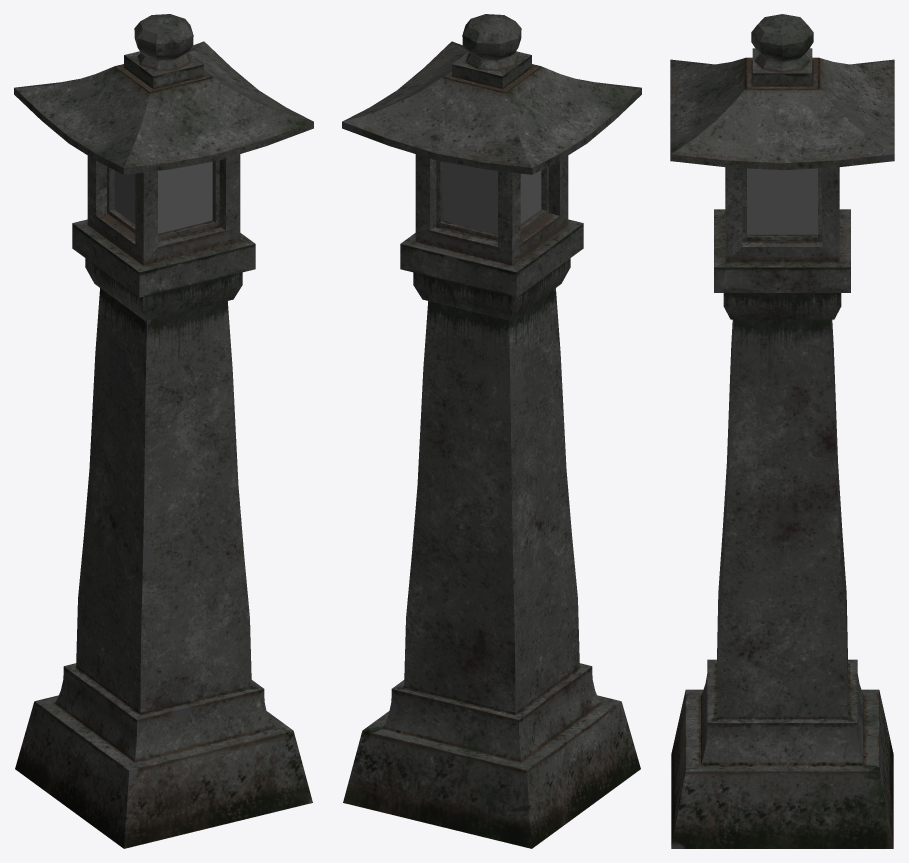
The model's file is Japanese-Lantern-off.fbx.
The picture shows the model from 3 angles, left to right: view 1: azimuth 30°, elevation 25°; view 2: azimuth 150°, elevation 25°; view 3: azimuth 270°, elevation 25°; orthographic projection. The views are drawn at different scales.
Parts seen in each view (by area): view 1: Cube.001; view 2: Cube.001; view 3: Cube.001.
Boxes of the visible parts, x1,y1,x2,y2 form: Cube.001: (14, 14, 313, 848); Cube.001: (342, 14, 641, 848); Cube.001: (670, 14, 894, 848).
Bounding box in the file's own units: 38.39 × 148 × 38.39.
